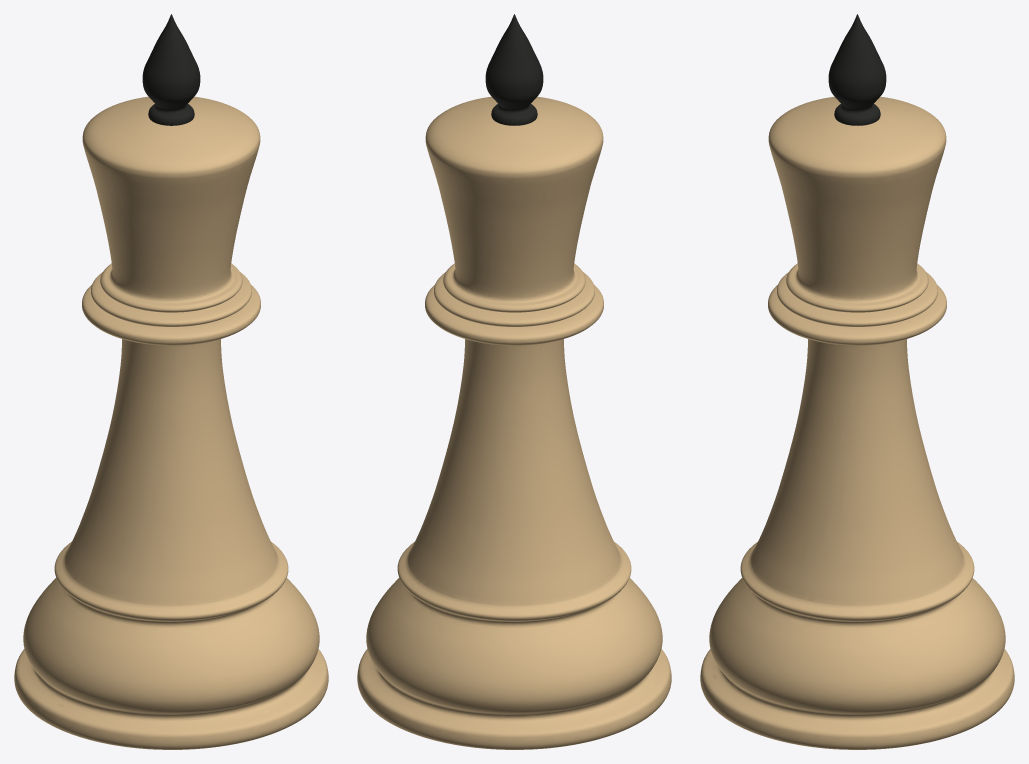
Rendered from king.glb.
The picture shows the model from 3 angles, left to right: view 1: azimuth 30°, elevation 25°; view 2: azimuth 150°, elevation 25°; view 3: azimuth 270°, elevation 25°; orthographic projection.
Parts seen in each view (by area): view 1: King.002; view 2: King.002; view 3: King.002.
Part boxes in pixels (bbox=[...]): King.002: bbox=[14, 14, 328, 749]; King.002: bbox=[357, 14, 671, 749]; King.002: bbox=[700, 14, 1014, 749].
Bounding box in the file's own units: 0.0413 × 0.0984 × 0.0413.
